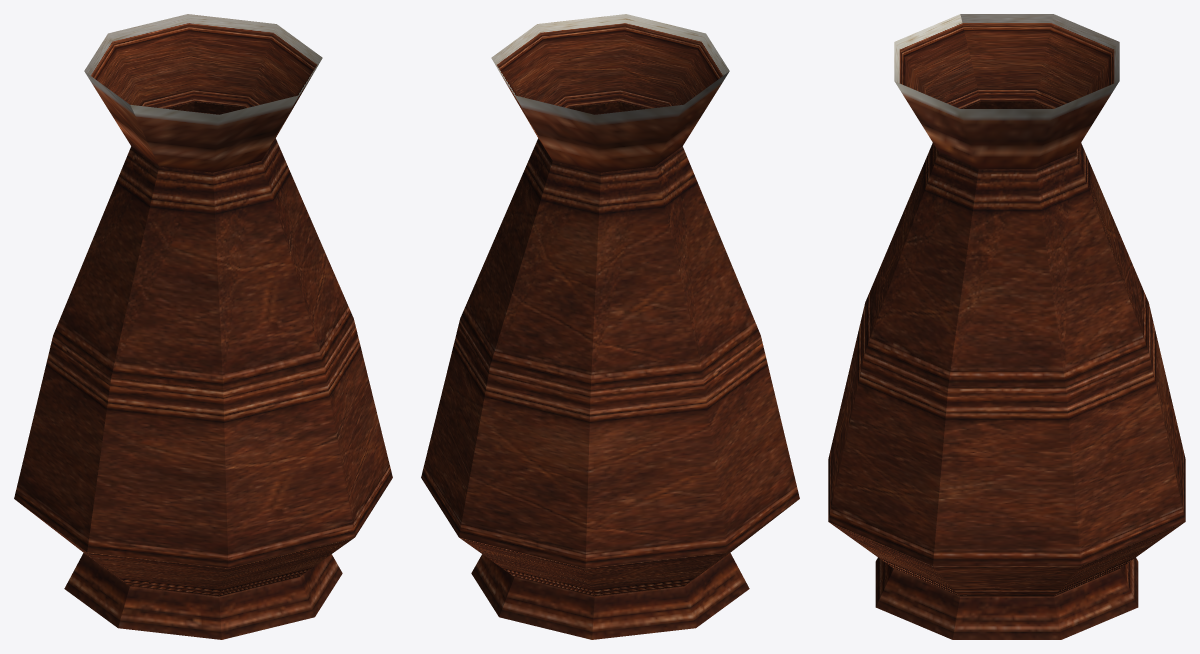
File: mm9_deco_jar03.glb
The picture shows the model from 3 angles, left to right: view 1: azimuth 30°, elevation 25°; view 2: azimuth 150°, elevation 25°; view 3: azimuth 270°, elevation 25°; orthographic projection.
Parts seen in each view (by area): view 1: Jar03; view 2: Jar03; view 3: Jar03.
Part boxes in pixels (left/top/right/bottom): Jar03: left=14, top=14, right=392, bottom=639; Jar03: left=421, top=14, right=799, bottom=639; Jar03: left=828, top=14, right=1185, bottom=639.
Bounding box in the file's own units: 0.4171 × 0.6735 × 0.4171.
1 material, 1 textured.
